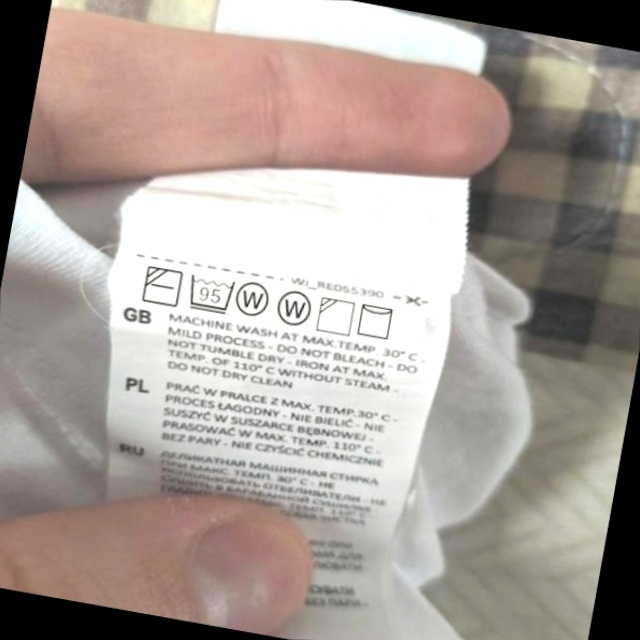95C: (184, 270, 238, 316)
dry_flat_in_shade: (139, 262, 185, 310)
line_dry: (354, 299, 399, 343)
shade_dry: (314, 294, 358, 339)
wet_clean: (273, 286, 316, 331), (234, 275, 275, 321)
